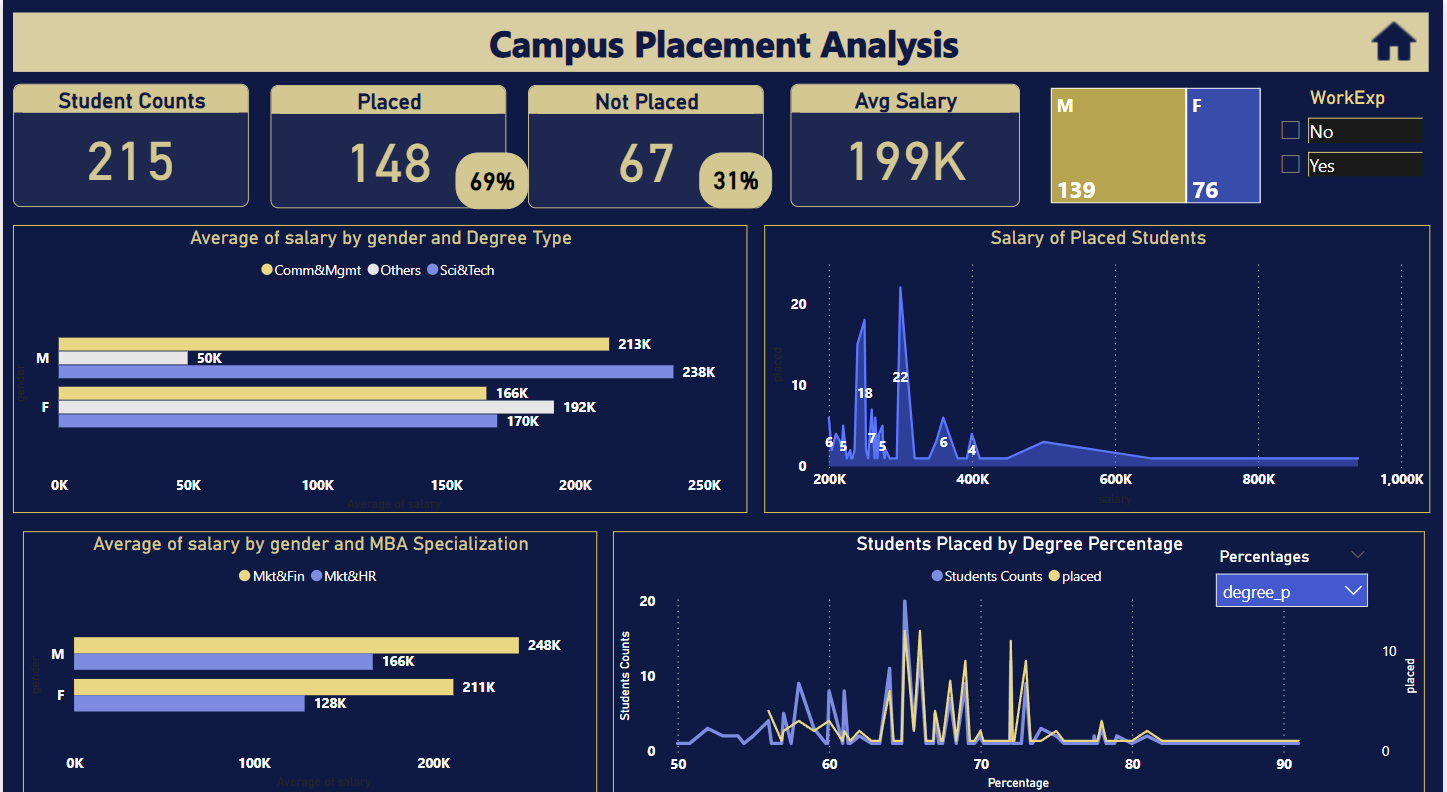

The page's visual inventory and layout, read from the dashboard file:
{"tool":"powerbi","page":{"name":"Page 2","canvas":[1280,720],"ordinal":1},"visuals":[{"type":"textbox","box":[8.8,11.2,1258.8,52.5],"z":0},{"type":"card","title":"Student Counts","fields":{"Values":["Placement_Data_Full_Class.Students Counts"]},"box":[8.4,74.8,209.9,109.8],"z":1000},{"type":"card","title":"Placed","fields":{"Values":["Placement_Data_Full_Class.placed"]},"box":[237.7,76,209.9,109.8],"z":2000},{"type":"card","title":"Not Placed","fields":{"Values":["Placement_Data_Full_Class.Not Placed"]},"box":[466.9,76,209.9,109.8],"z":3000},{"type":"card","title":"Avg Salary","fields":{"Values":["Avg(Placement_Data_Full_Class.salary)"]},"box":[699.7,74.8,204,109.8],"z":4000},{"type":"clusteredBarChart","title":"Average of salary by gender and MBA Specialization","fields":{"Category":["Placement_Data_Full_Class.gender"],"Y":["Avg(Placement_Data_Full_Class.salary)"],"Series":["Placement_Data_Full_Class.specialisation"]},"box":[18.1,471.7,510.3,235.3],"z":5000},{"type":"clusteredBarChart","title":"Average of salary by gender and Degree Type","fields":{"Category":["Placement_Data_Full_Class.gender"],"Y":["Avg(Placement_Data_Full_Class.salary)"],"Series":["Placement_Data_Full_Class.degree_t"]},"box":[8.4,200.3,652.7,255.8],"z":6000},{"type":"image","box":[1210.1,10.9,53.1,53.1],"z":7000},{"type":"treemap","title":"Gender","fields":{"Group":["Placement_Data_Full_Class.gender"],"Values":["Placement_Data_Full_Class.Students Counts"]},"box":[926.2,73.8,196.2,112.5],"z":9000},{"type":"slicer","title":"WorkExp","fields":{"Values":["Placement_Data_Full_Class.workex"]},"box":[1123.8,76.2,143.8,101.2],"z":10000},{"type":"stackedAreaChart","title":"Salary of Placed Students","fields":{"Category":["Placement_Data_Full_Class.salary"],"Y":["Placement_Data_Full_Class.placed"]},"box":[676.8,200.3,592.4,255.8],"z":11000},{"type":"card","fields":{"Values":["Placement_Data_Full_Class.placed%"]},"box":[401.7,135.1,65.1,50.7],"z":12000},{"type":"card","fields":{"Values":["Placement_Data_Full_Class.NotPlaced%"]},"box":[618.9,135.1,65.1,49.5],"z":13000},{"type":"lineChart","title":"Students Placed by Degree Percentage","fields":{"Category":["Placement_Data_Full_Class.degree_p"],"Y":["Placement_Data_Full_Class.Students Counts"],"Y2":["Placement_Data_Full_Class.placed"]},"box":[541.7,471.7,721.5,236.5],"z":14000},{"type":"slicer","fields":{"Values":["Percentages.Percentages"]},"box":[1073.7,481.4,144.8,73.6],"z":15000}]}

Visuals, with their boxes in screenshot pixels (x1, y1, x2, y2), scaled from the page's 1280x720 canvas onto the 1447x792 screenshot:
textbox: bbox(10, 12, 1433, 70)
"Student Counts" card: bbox(9, 82, 247, 203)
"Placed" card: bbox(269, 84, 506, 204)
"Not Placed" card: bbox(528, 84, 765, 204)
"Avg Salary" card: bbox(791, 82, 1022, 203)
"Average of salary by gender and MBA Specialization" clusteredBarChart: bbox(20, 519, 597, 778)
"Average of salary by gender and Degree Type" clusteredBarChart: bbox(9, 220, 747, 502)
image: bbox(1368, 12, 1428, 70)
"Gender" treemap: bbox(1047, 81, 1269, 205)
"WorkExp" slicer: bbox(1270, 84, 1433, 195)
"Salary of Placed Students" stackedAreaChart: bbox(765, 220, 1435, 502)
card - Placement_Data_Full_Class.placed%: bbox(454, 149, 528, 204)
card - Placement_Data_Full_Class.NotPlaced%: bbox(700, 149, 773, 203)
"Students Placed by Degree Percentage" lineChart: bbox(612, 519, 1428, 779)
slicer - Percentages.Percentages: bbox(1214, 530, 1377, 610)
